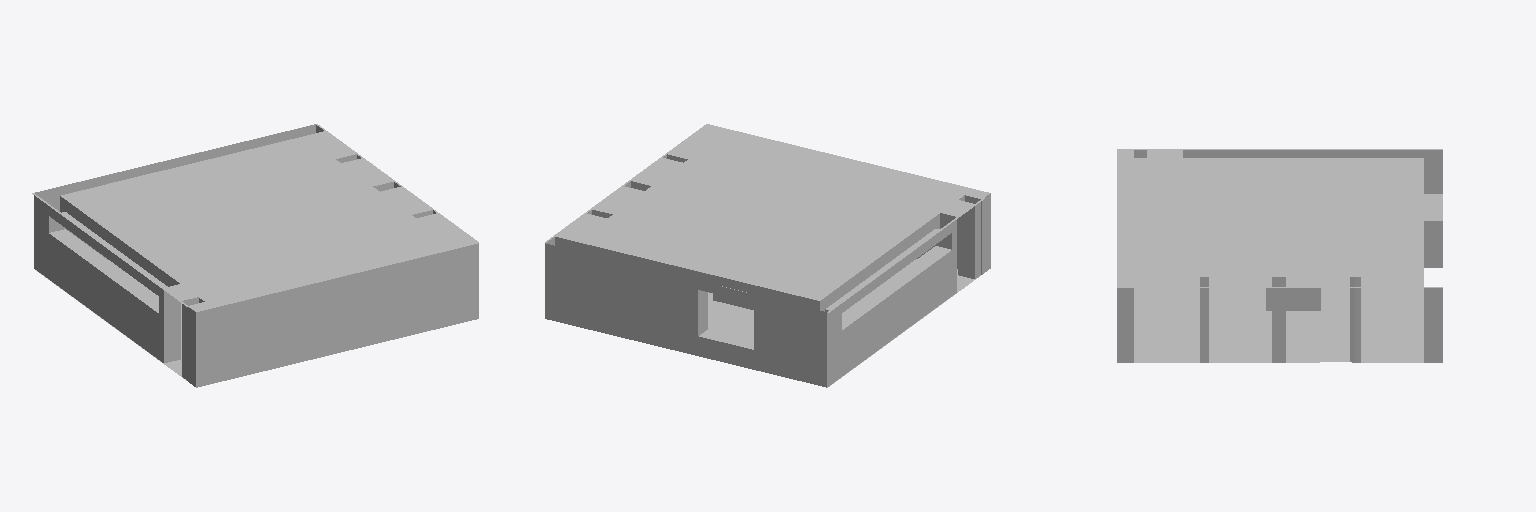
Rendered from house.obj.
3 renders of one model, left to right at view 1: azimuth 30°, elevation 25°; view 2: azimuth 150°, elevation 25°; view 3: azimuth 270°, elevation 25°, orthographic.
Size of the model in its own units: 18.85 by 4.77 by 18.64.